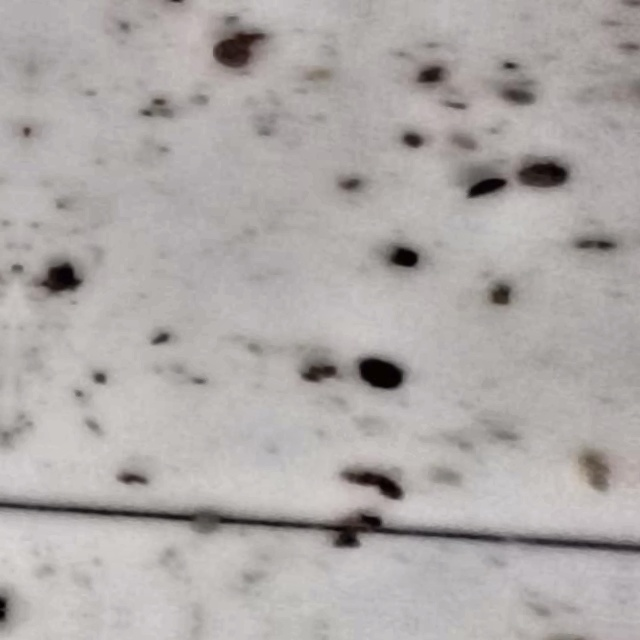varroa: (356, 358, 404, 393), (516, 162, 568, 193), (211, 35, 252, 74)
